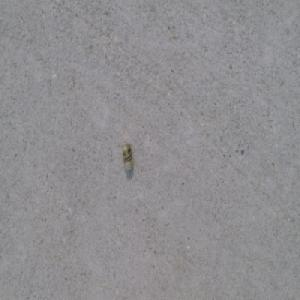BoltNutSet: (122, 142, 134, 169)
